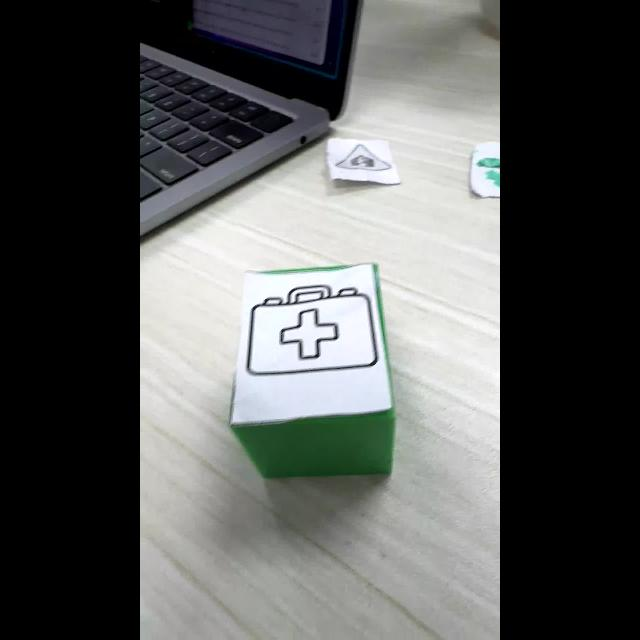Medkit: (246, 285, 380, 376)
